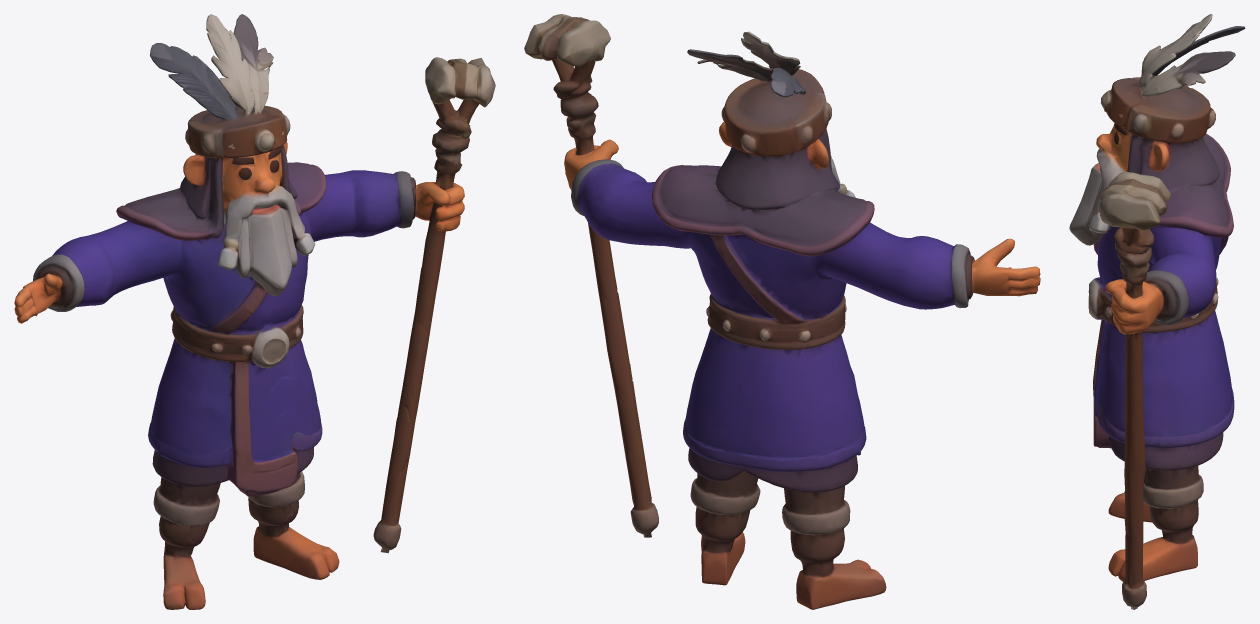
The model's file is hero_kam.glb.
3 views of the same model, side by side, from view 1: azimuth 30°, elevation 25°; view 2: azimuth 150°, elevation 25°; view 3: azimuth 270°, elevation 25° (orthographic). The views are drawn at different scales.
Visible parts, largest first — view 1: tripo_node_b79034a7-1f35-4b12-bd9e-a1eb72e88147; view 2: tripo_node_b79034a7-1f35-4b12-bd9e-a1eb72e88147; view 3: tripo_node_b79034a7-1f35-4b12-bd9e-a1eb72e88147.
Boxes of the visible parts, x1,y1,x2,y2 form: tripo_node_b79034a7-1f35-4b12-bd9e-a1eb72e88147: (14,14,495,609); tripo_node_b79034a7-1f35-4b12-bd9e-a1eb72e88147: (524,14,1040,609); tripo_node_b79034a7-1f35-4b12-bd9e-a1eb72e88147: (1069,14,1245,609).
Size of the model in its own units: 0.9212 by 1 by 0.3008.
Materials: 1 (1 with a texture image).
